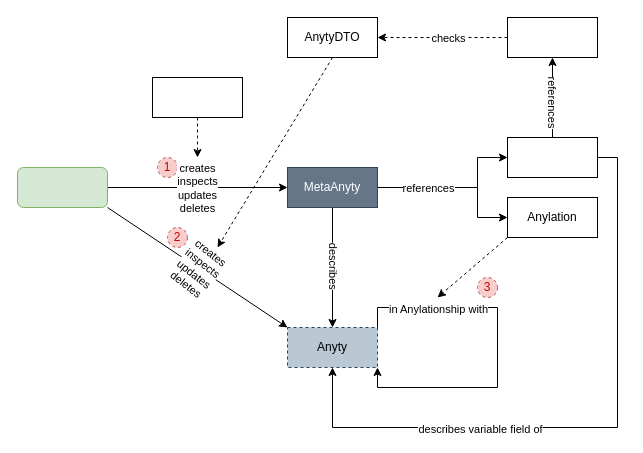
This 643x453 diagram has some shape labels left out. The centre of each missing label's shape, as x and y in pixels:
"Anybute" belongs at point (552, 157).
"Anyvalidation" belongs at point (552, 37).
"MetaAnytyDTO" belongs at point (197, 97).
"User" belongs at point (62, 187).
